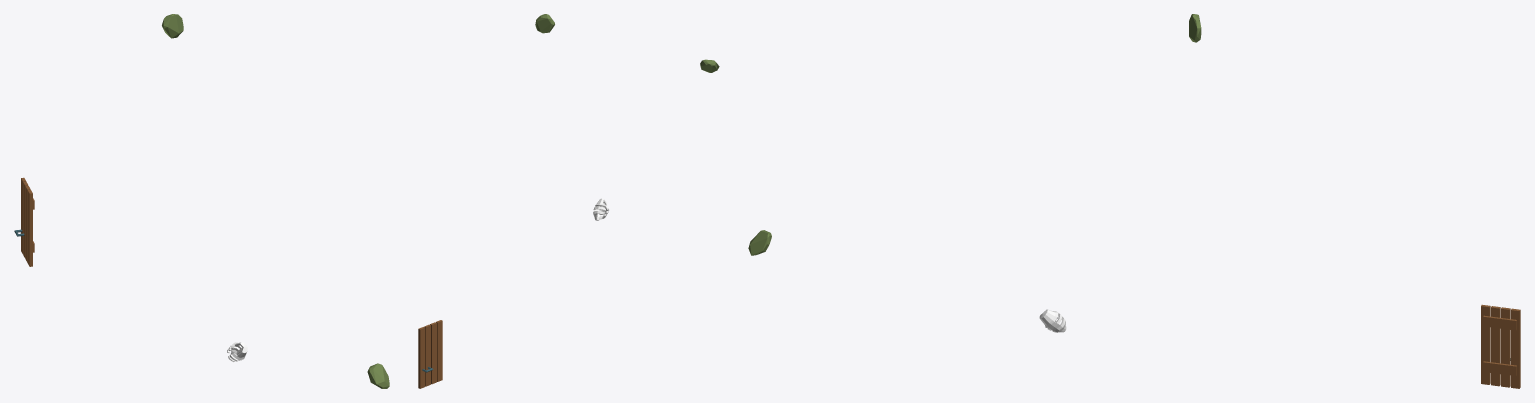
The picture shows the model from 3 angles, left to right: view 1: azimuth 30°, elevation 25°; view 2: azimuth 150°, elevation 25°; view 3: azimuth 270°, elevation 25°; orthographic projection. The views are drawn at different scales.
Parts seen in each view (by area): view 1: Box15111_brown_0, Box668_green3_0, Box820_green3_0; view 2: Box15111_brown_0, Box668_green3_0; view 3: Box15111_brown_0.
Part boxes in pixels (box(x1,y1,x2,y2)): Box15111_brown_0: box(21, 177, 34, 266); Box668_green3_0: box(162, 14, 183, 38); Box820_green3_0: box(367, 363, 389, 388); Box15111_brown_0: box(418, 320, 442, 388); Box668_green3_0: box(535, 14, 554, 33); Box15111_brown_0: box(1481, 304, 1520, 388).
Size of the model in its own units: 71.05 by 1044 by 1962.
